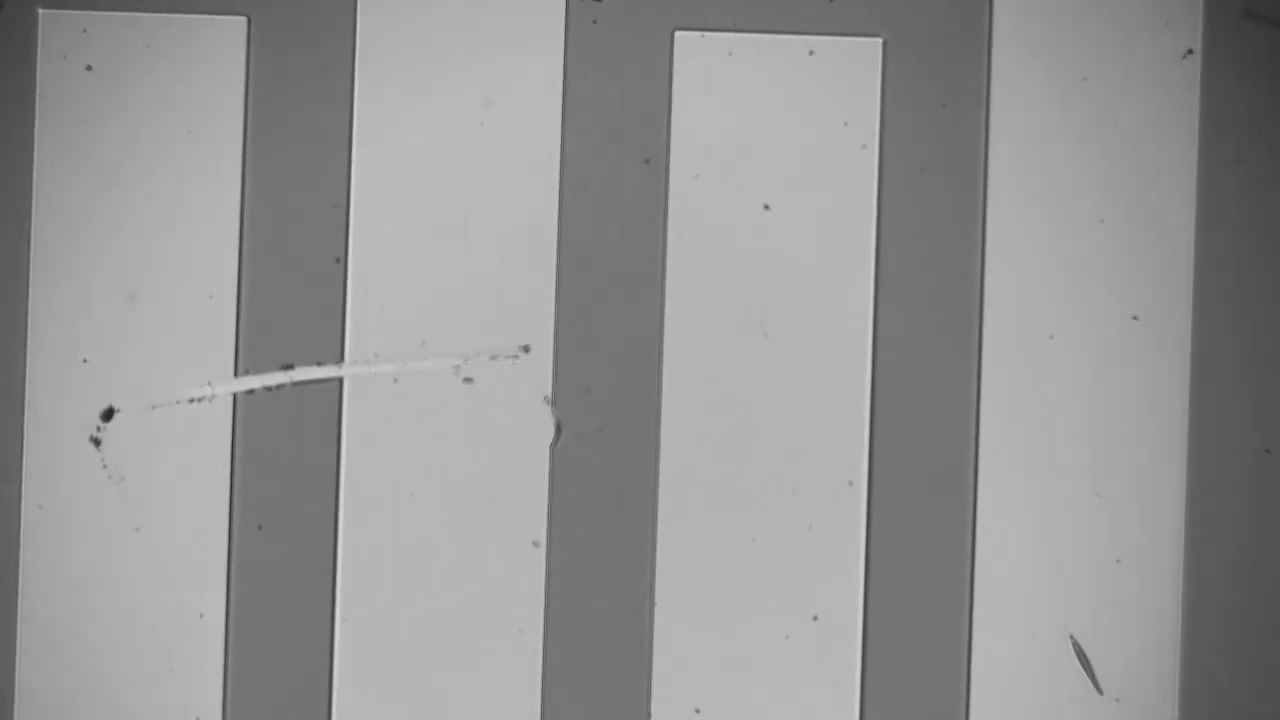Short_circuit: (189, 329, 371, 427)
